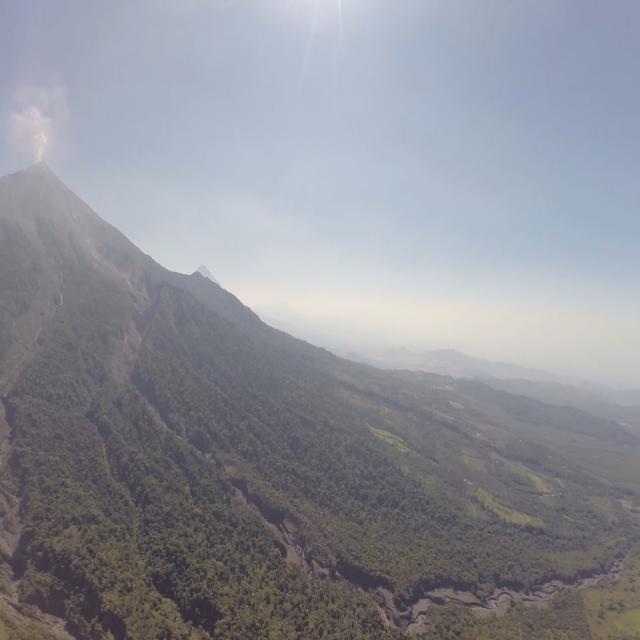Plume: (7, 106, 52, 158), (35, 130, 48, 160)
Summit: (27, 152, 59, 184)
